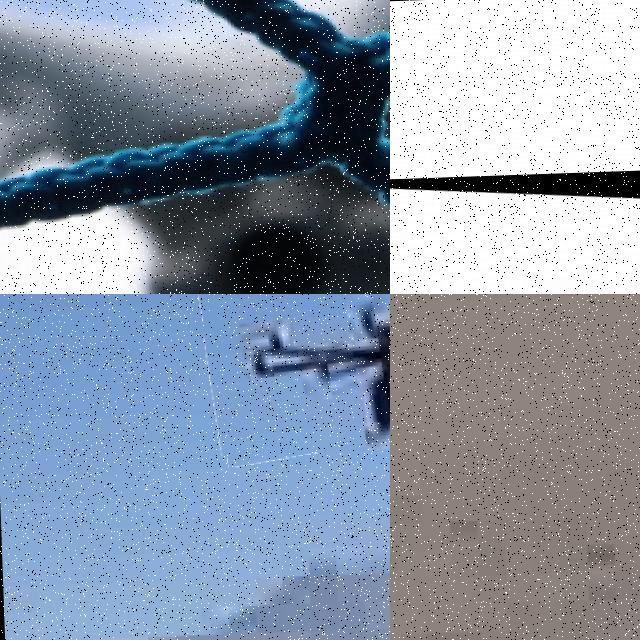0: (200, 294, 390, 456)
drone: (0, 0, 390, 294), (390, 161, 640, 294)
